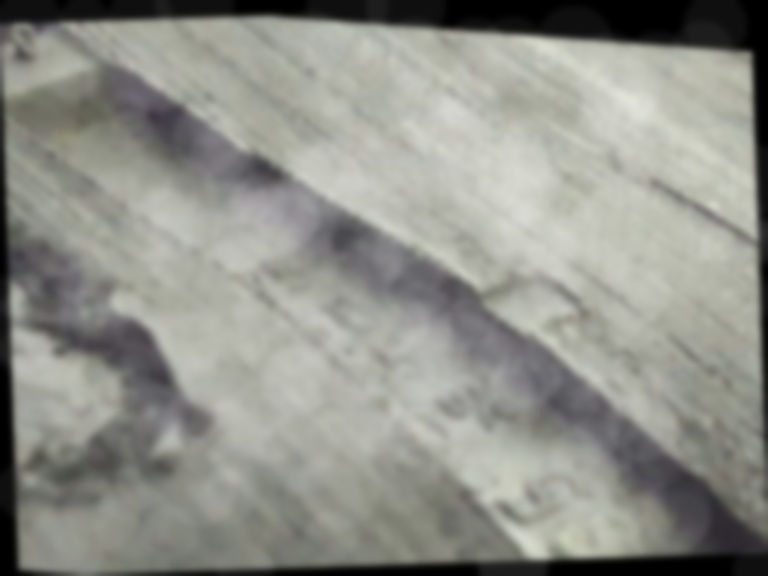temoin:0: (429, 229, 604, 378)
